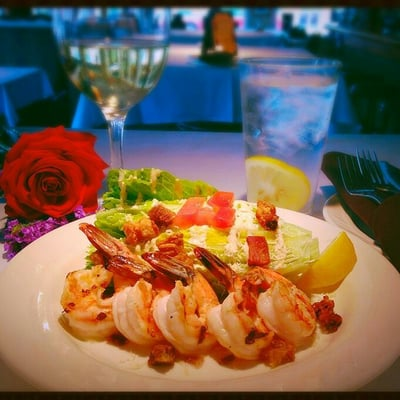burger: (334, 151, 400, 206)
curry: (96, 166, 225, 212)
pizza: (240, 59, 340, 213)
